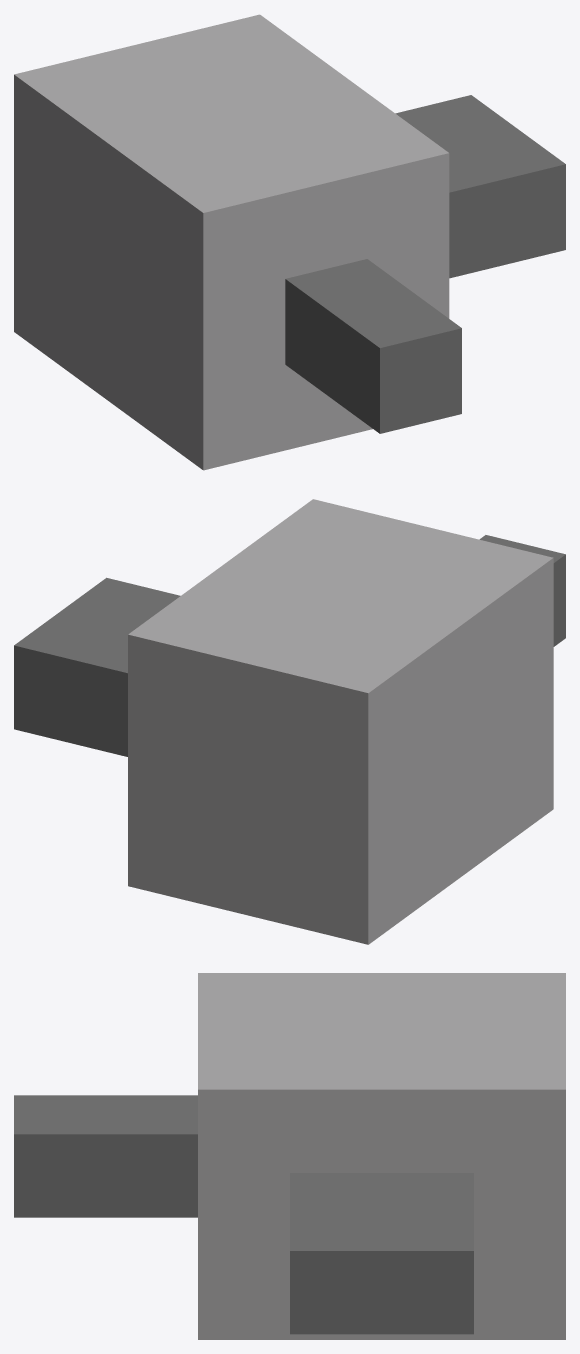
Rendered from Rock 1.obj.
3 renders of one model, top to bottom at view 1: azimuth 30°, elevation 25°; view 2: azimuth 150°, elevation 25°; view 3: azimuth 270°, elevation 25°, orthographic. The views are drawn at different scales.
Bounding box in the file's own units: 0.5 × 0.3 × 0.6.
